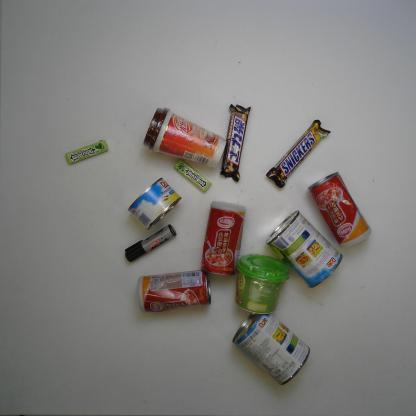Canned Food: (264, 210, 343, 288), (232, 312, 311, 386), (308, 170, 372, 248), (201, 200, 247, 275), (138, 270, 212, 315), (127, 176, 182, 230)
Chocolate: (267, 120, 332, 188), (220, 102, 252, 182)
Gum: (172, 159, 212, 193), (65, 140, 110, 164)
Instant Drink: (142, 106, 227, 168), (232, 252, 288, 314)
Stationery: (123, 224, 176, 262)
